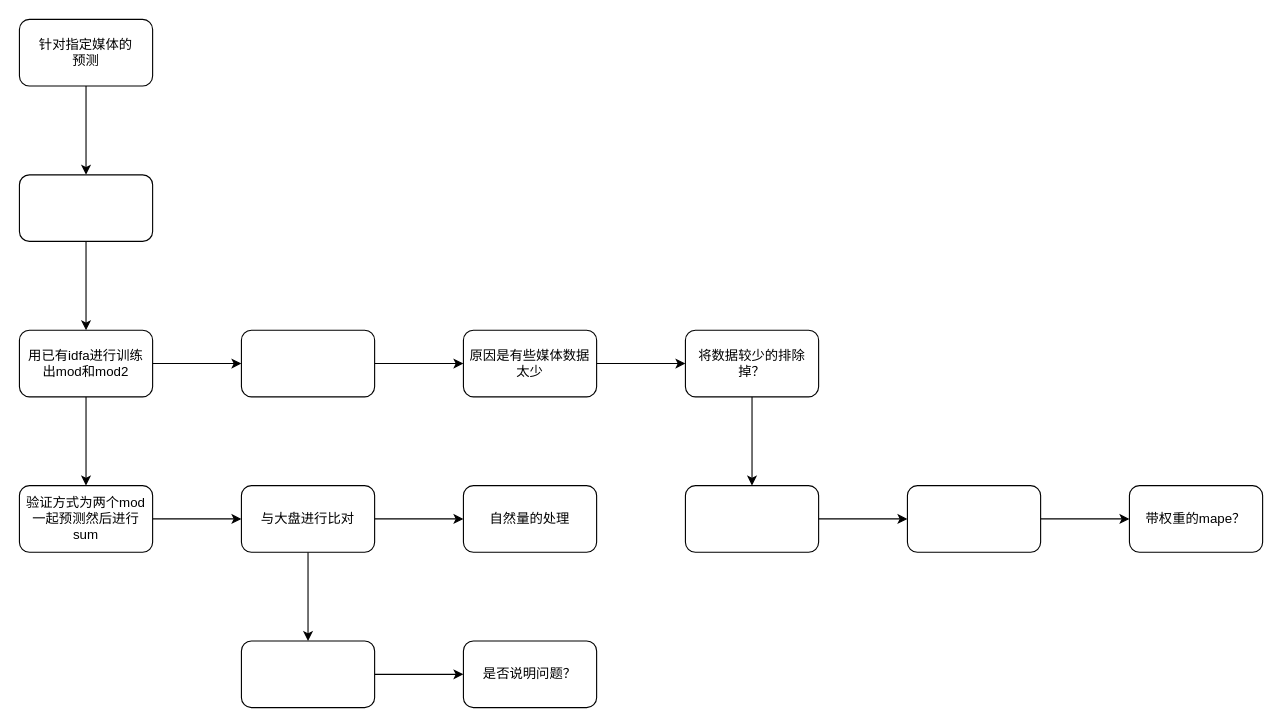
This 1282x727 diagram has some shape labels left out. Here are the shapes that lost their labels. From the top down, the box of each, then its label:
(18, 174, 153, 241): 分开成该媒体 与 其他媒体
(240, 329, 375, 397): 目前针对媒体的训练效果不好
(684, 485, 819, 552): 还是算权重
(906, 485, 1041, 552): 如果算权重 最终的目标就不是 mape
(240, 640, 375, 708): 算出整体mape
